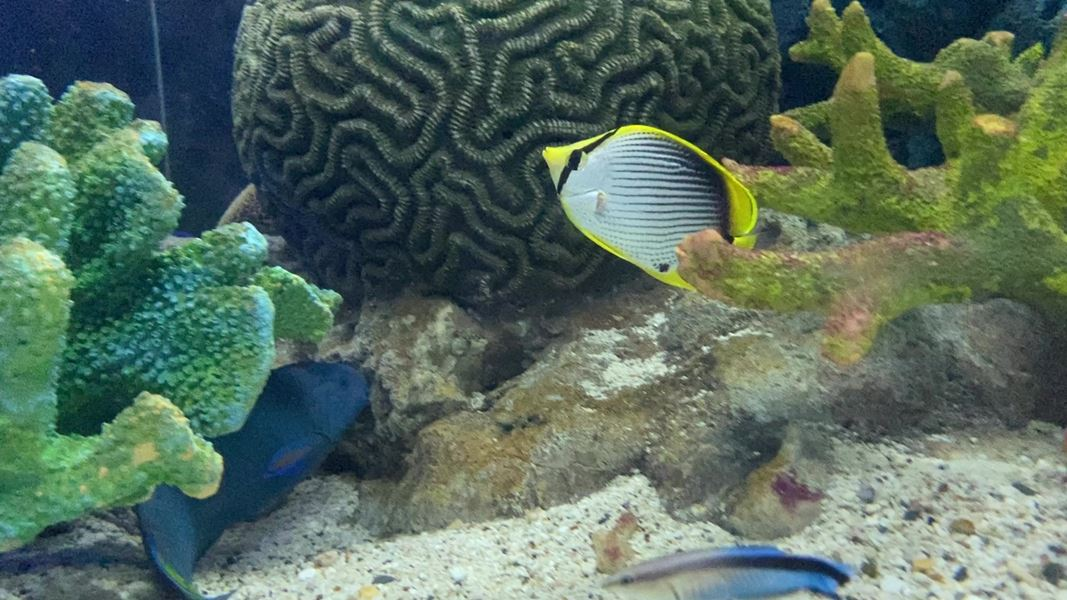Black-backed butterflyfish: (530, 111, 788, 311)
